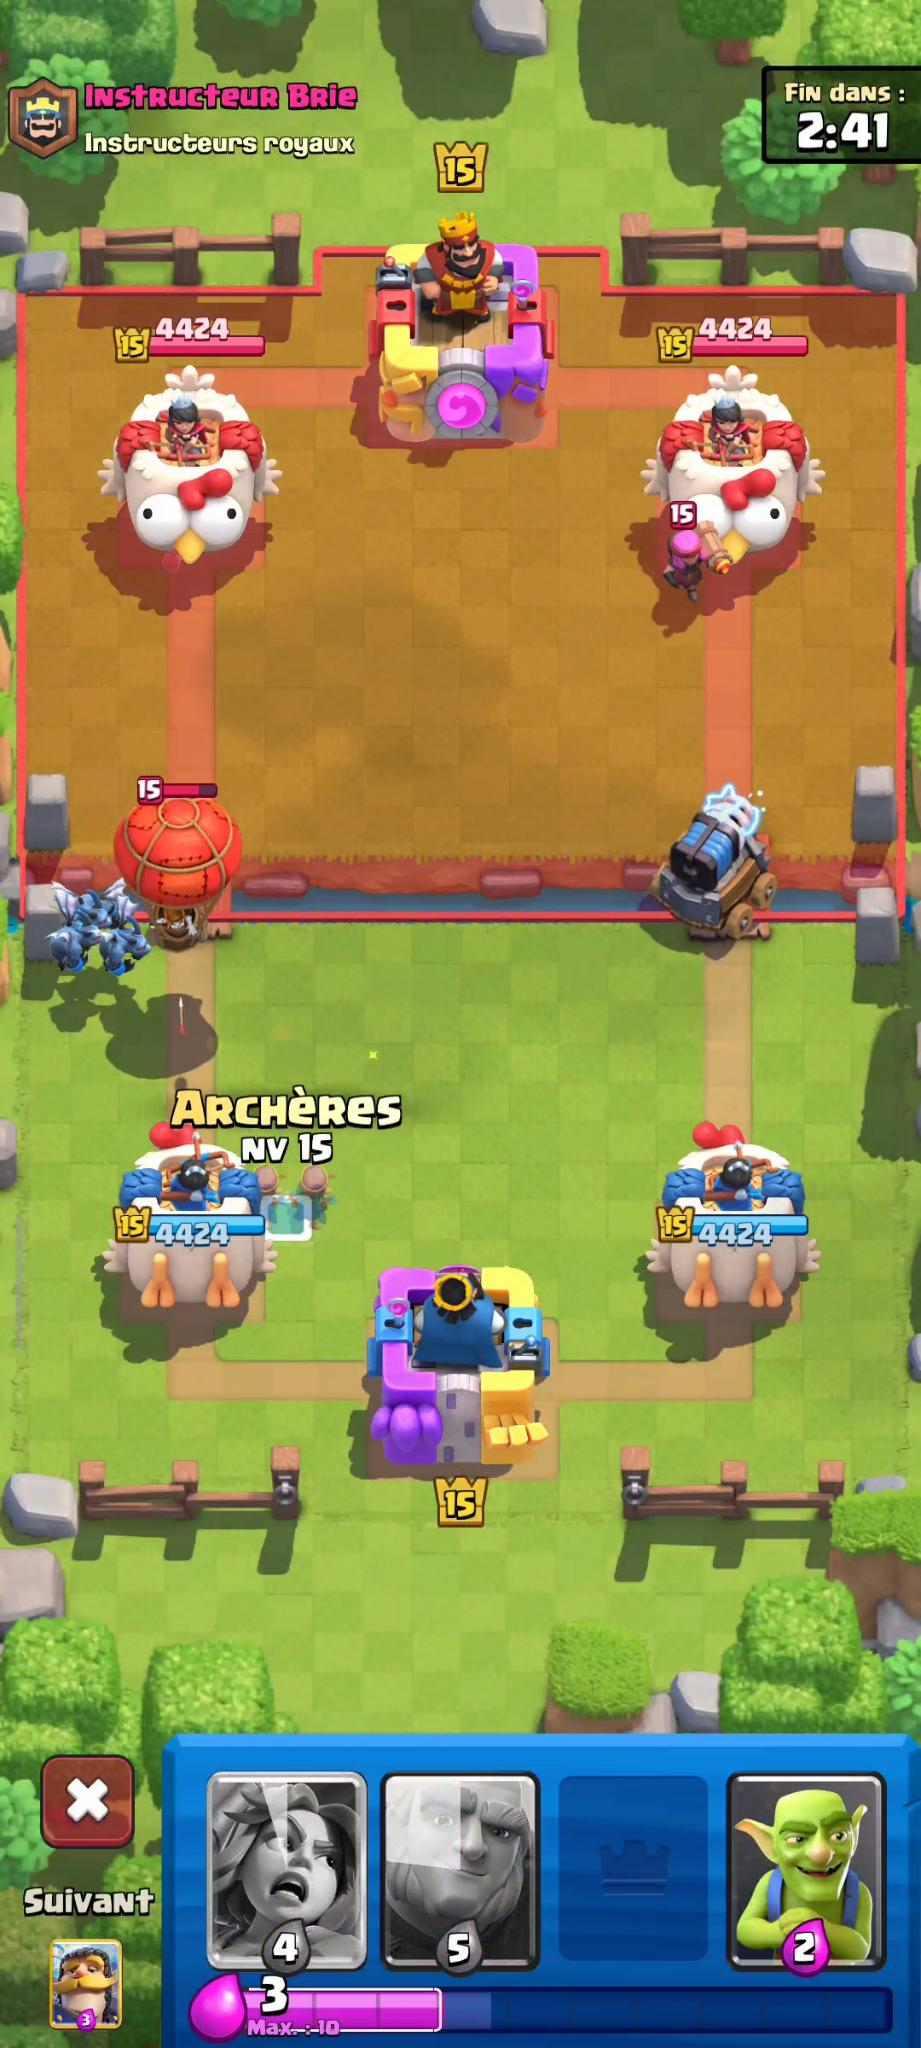archere: (242, 1152, 291, 1251), (294, 1157, 347, 1237)
gargouille: (47, 917, 103, 976), (102, 921, 154, 974), (71, 884, 125, 931)
zappy: (638, 778, 796, 957)
